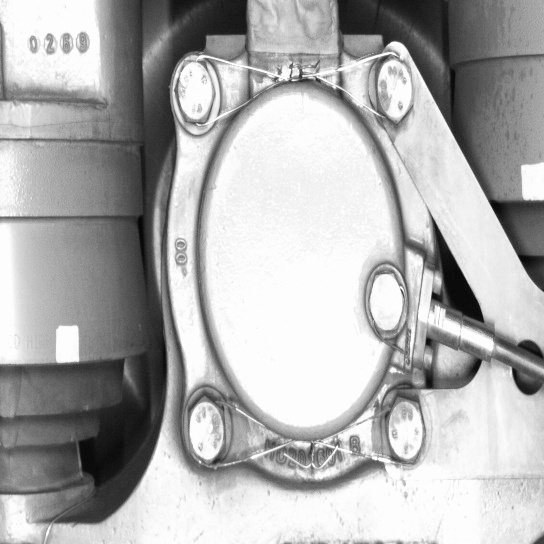IronWire: (165, 49, 419, 129), (180, 388, 428, 469)
Screw: (359, 257, 410, 342), (167, 52, 220, 130), (180, 389, 230, 469), (371, 49, 418, 128), (381, 391, 427, 467)
